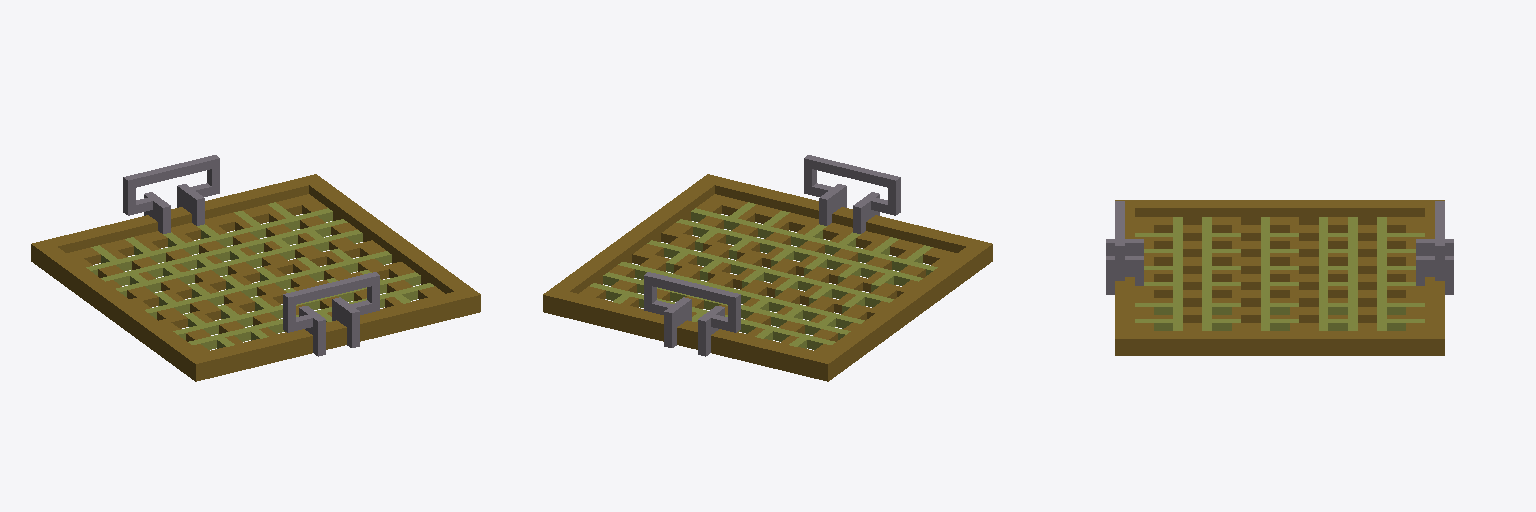
3 renders of one model, left to right at view 1: azimuth 30°, elevation 25°; view 2: azimuth 150°, elevation 25°; view 3: azimuth 270°, elevation 25°, orthographic.
Visible parts, largest first — view 1: object 1; view 2: object 1; view 3: object 1.
Part boxes in pixels (x1,y1,x2,y2): object 1: (31,155,480,381); object 1: (543,155,992,381); object 1: (1106,200,1453,355).
Bounding box in the file's own units: 3.4 × 0.7 × 3.6.
1 materials, 1 textured.